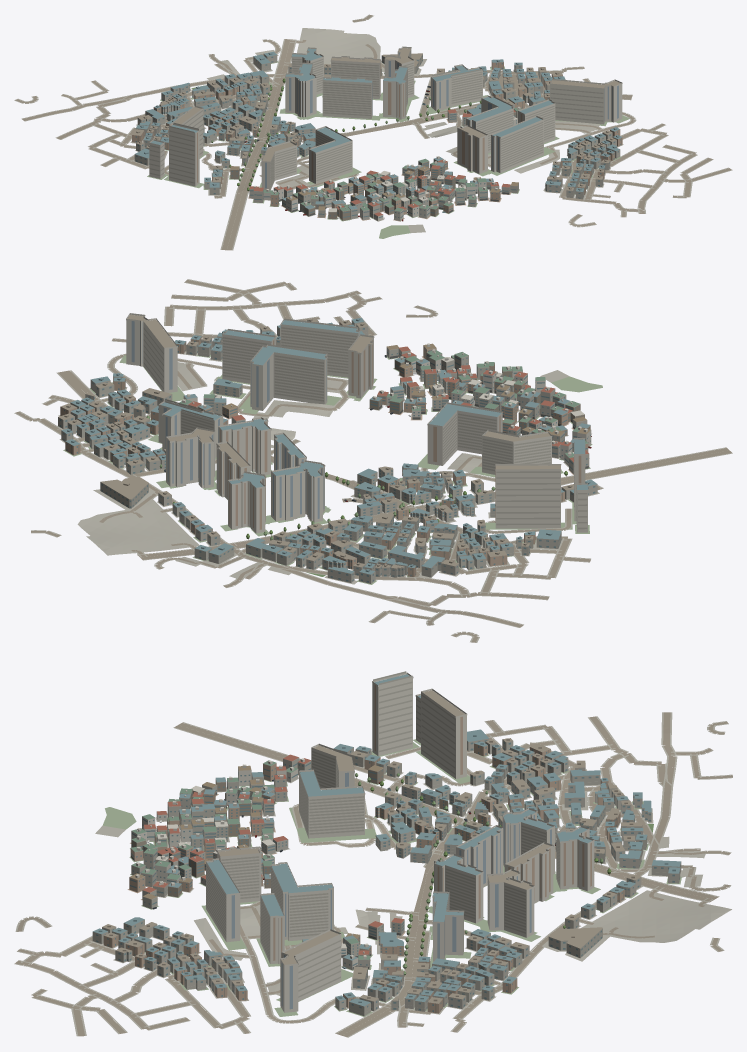
3 views of the same model, one above another, from view 1: azimuth 30°, elevation 25°; view 2: azimuth 150°, elevation 25°; view 3: azimuth 270°, elevation 25° (orthographic). The views are drawn at different scales.
Parts seen in each view (by area): view 1: context-osm-buildings, context-villa-infill, context-osm-roads, context-osm-sidewalks, context-building-plinths; view 2: context-osm-buildings, context-villa-infill, context-osm-roads, context-building-plinths, context-osm-sidewalks; view 3: context-osm-buildings, context-osm-roads, context-villa-infill, context-building-plinths, context-osm-sidewalks.
Part boxes in pixels (bbox=[...]): context-osm-buildings: bbox=[132, 46, 622, 199]; context-villa-infill: bbox=[211, 73, 521, 221]; context-osm-roads: bbox=[15, 15, 731, 250]; context-osm-sidewalks: bbox=[14, 14, 732, 250]; context-building-plinths: bbox=[130, 28, 630, 238]; context-osm-buildings: bbox=[58, 313, 597, 583]; context-villa-infill: bbox=[146, 343, 592, 540]; context-osm-roads: bbox=[15, 279, 731, 642]; context-building-plinths: bbox=[57, 335, 602, 584]; context-osm-sidewalks: bbox=[14, 279, 732, 642]; context-osm-buildings: bbox=[92, 671, 681, 1016]; context-osm-roads: bbox=[15, 712, 732, 1037]; context-villa-infill: bbox=[127, 754, 611, 976]; context-building-plinths: bbox=[94, 739, 731, 1016]; context-osm-sidewalks: bbox=[14, 712, 732, 1037].
Bounding box in the file's own units: 658 × 78.22 × 630.
